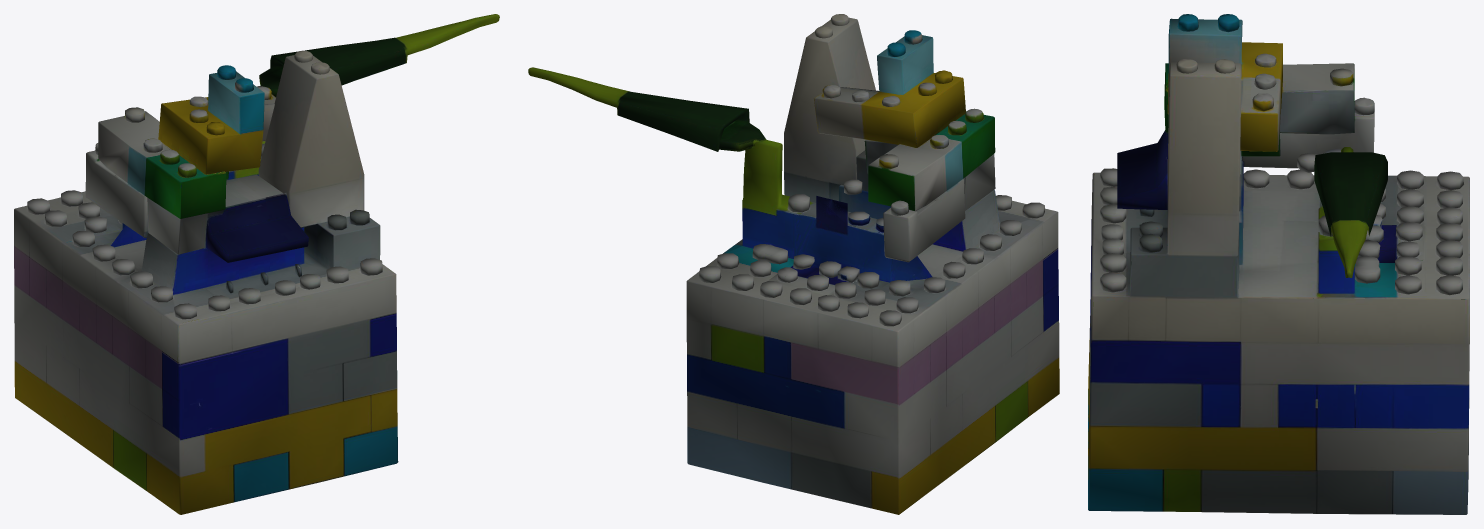
The model's file is object_65_asset_50025c1b.glb.
3 renders of one model, left to right at view 1: azimuth 30°, elevation 25°; view 2: azimuth 150°, elevation 25°; view 3: azimuth 270°, elevation 25°, orthographic. The views are drawn at different scales.
Parts seen in each view (by area): view 1: tripo_node_b59930f2-2fed-4341-ab2a-d1f14a4f5e1f; view 2: tripo_node_b59930f2-2fed-4341-ab2a-d1f14a4f5e1f; view 3: tripo_node_b59930f2-2fed-4341-ab2a-d1f14a4f5e1f.
Boxes of the visible parts, x1,y1,x2,y2 form: tripo_node_b59930f2-2fed-4341-ab2a-d1f14a4f5e1f: (14,14,499,514); tripo_node_b59930f2-2fed-4341-ab2a-d1f14a4f5e1f: (528,14,1059,514); tripo_node_b59930f2-2fed-4341-ab2a-d1f14a4f5e1f: (1088,14,1469,514).
Size of the model in its own units: 0.998 by 0.8418 by 0.666.
Materials: 1 (1 with a texture image).
